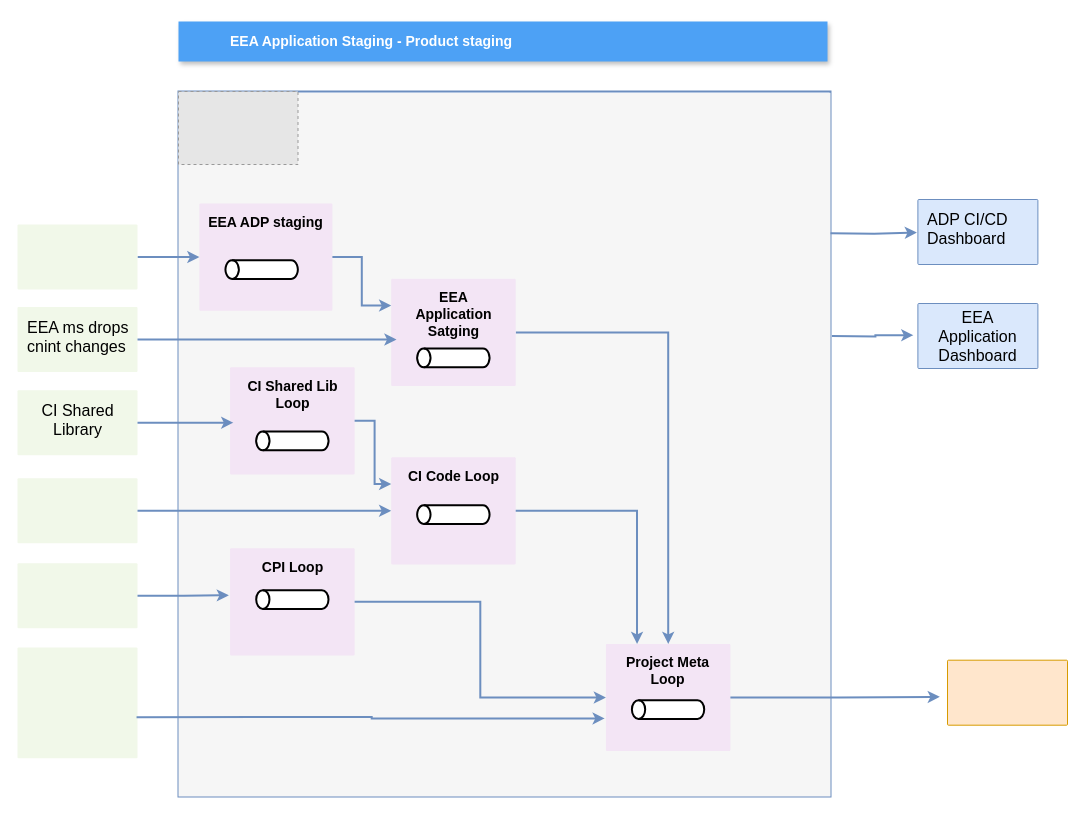
The diagram is 1085 pixels wide and 814 high, and some of its shapes have lost their labels. Grey dashed boxes stand in for pictures. The shapes that lost their labels are listed below. From the top down, each one's centre as x and y in pixels, then its label:
pixel 77 256: ADP GS/RS
pixel 77 510: Prod CI changes
pixel 77 595: CPI changes
pixel 77 702: Meta changes test frameworks tools configs etc.
pixel 1007 692: RV
